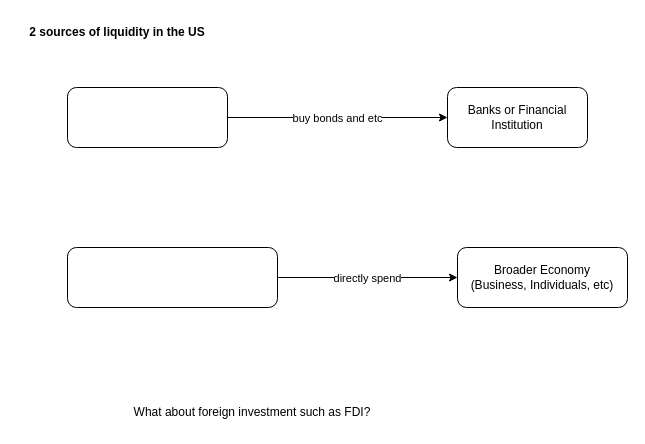
The diagram is 645 pixels wide and 444 high, and some of its shapes have lost their labels. Each missing label, with the centre of its shape:
"QE (Quantitative Easing)" belongs at (x=147, y=117).
"TGA (Treasury General Account) Reduction" belongs at (x=172, y=277).
